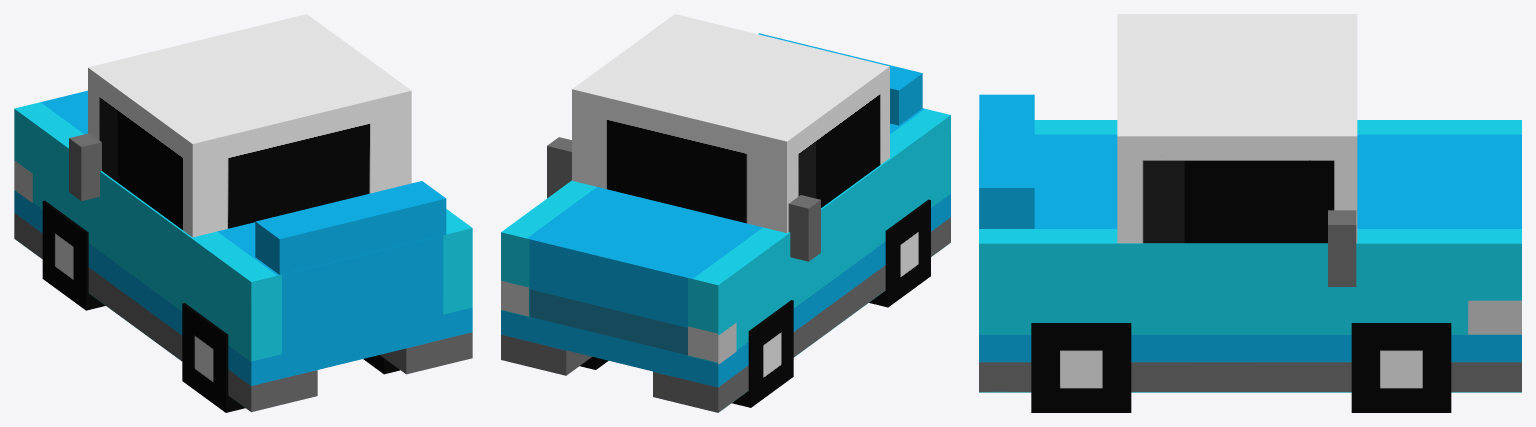
File: Blue car.fbx
3 renders of one model, left to right at view 1: azimuth 30°, elevation 25°; view 2: azimuth 150°, elevation 25°; view 3: azimuth 270°, elevation 25°, orthographic. The views are drawn at different scales.
Parts seen in each view (by area): view 1: midden, dakje, spoiler, wiel6, wiel5, deurknop6; view 2: midden, dakje, wiel6, wiel5, deurknop6, spoiler, deurknop1; view 3: midden, dakje, wiel3, wiel4, spoiler, deurknop1.
Boxes of the visible parts, left/top/right/bottom form: midden: left=14, top=90, right=472, bottom=412; dakje: left=88, top=14, right=411, bottom=237; spoiler: left=255, top=181, right=446, bottom=274; wiel6: left=42, top=200, right=105, bottom=310; wiel5: left=182, top=303, right=245, bottom=412; deurknop6: left=69, top=133, right=101, bottom=201; midden: left=501, top=108, right=950, bottom=412; dakje: left=572, top=14, right=889, bottom=232; wiel6: left=732, top=300, right=793, bottom=407; wiel5: left=869, top=199, right=930, bottom=307; deurknop6: left=788, top=195, right=820, bottom=261; spoiler: left=758, top=33, right=922, bottom=125; deurknop1: left=547, top=137, right=571, bottom=198; midden: left=979, top=120, right=1521, bottom=392; dakje: left=1117, top=14, right=1357, bottom=243; wiel3: left=1351, top=323, right=1451, bottom=412; wiel4: left=1031, top=323, right=1131, bottom=412; spoiler: left=979, top=94, right=1034, bottom=228; deurknop1: left=1328, top=210, right=1356, bottom=286.
Bounding box in the file's own units: 1.52 × 1.32 × 2.36.
5 materials, 5 textured.
